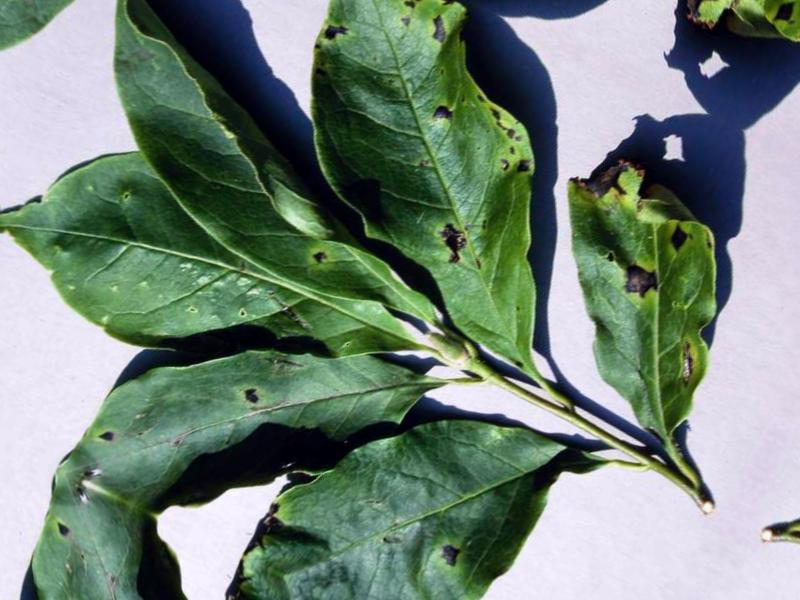Tomato leaf bacterial spot: (215, 0, 660, 385), (30, 0, 512, 340), (60, 239, 479, 600), (493, 124, 800, 456)
